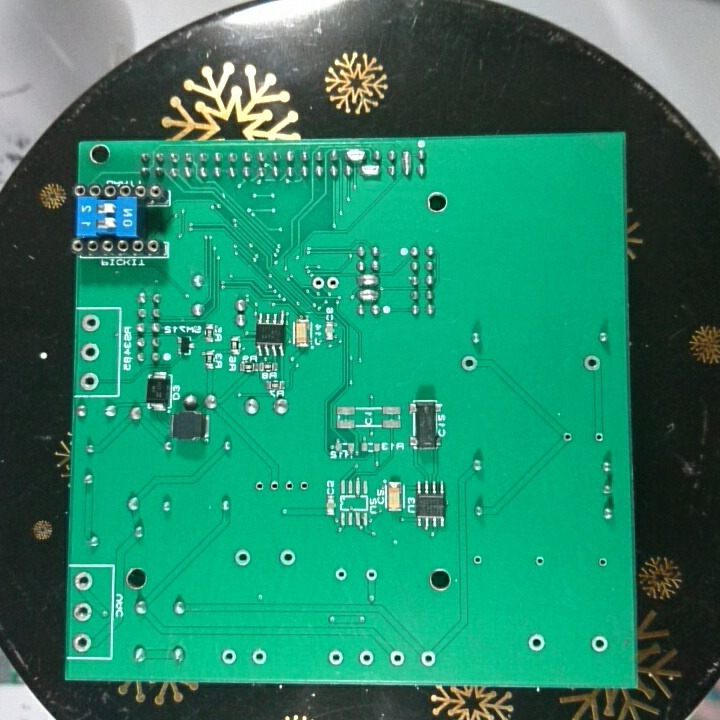F: (525, 630, 548, 657), (69, 629, 94, 653), (77, 369, 101, 393), (72, 570, 95, 594), (79, 340, 102, 364), (78, 312, 103, 334), (588, 631, 610, 655), (72, 600, 94, 623), (232, 546, 254, 569), (248, 646, 269, 669), (459, 353, 480, 375), (385, 647, 406, 669), (217, 646, 239, 667), (580, 352, 603, 372), (277, 546, 297, 569), (325, 646, 346, 667), (417, 647, 437, 669), (356, 648, 376, 668), (363, 565, 379, 586), (594, 554, 612, 572), (590, 429, 607, 447), (559, 429, 576, 446), (332, 566, 349, 583), (310, 274, 325, 292), (532, 551, 547, 569), (281, 478, 297, 494), (325, 275, 340, 292), (267, 478, 282, 495), (252, 478, 267, 494), (296, 478, 312, 493), (470, 552, 484, 568)
P: (399, 147, 415, 178), (342, 145, 368, 163), (355, 272, 384, 288), (354, 288, 382, 304), (358, 162, 382, 178)
